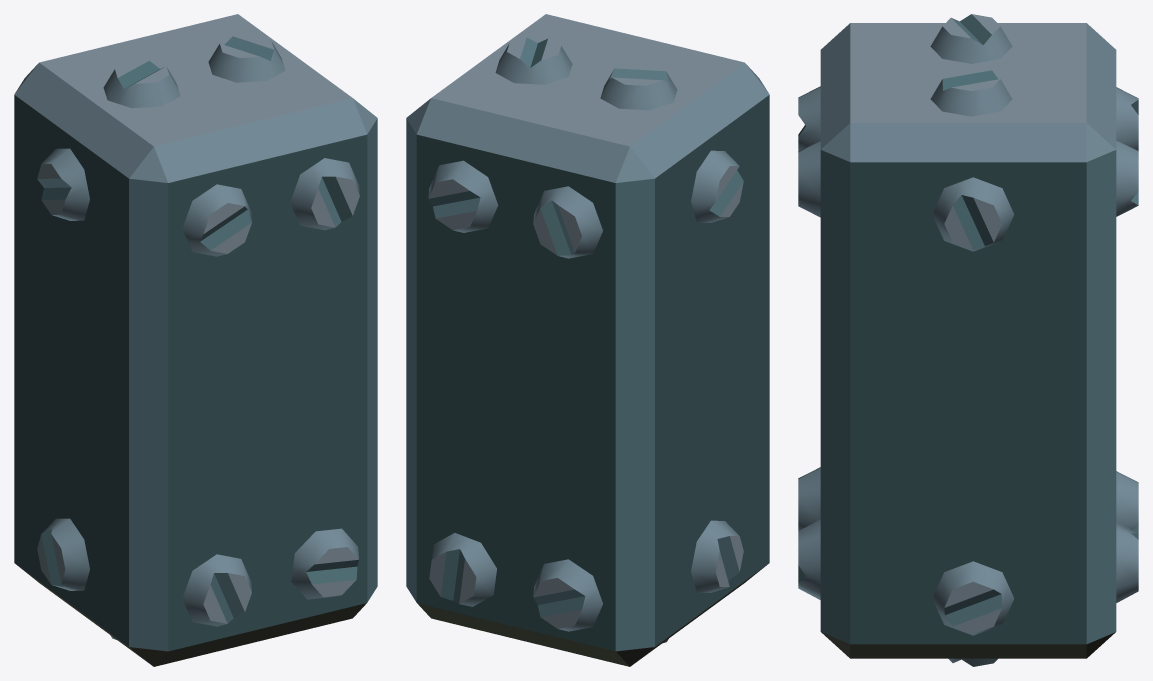
Rendered from m_kub_metal_vrick.FBX.
3 renders of one model, left to right at view 1: azimuth 30°, elevation 25°; view 2: azimuth 150°, elevation 25°; view 3: azimuth 270°, elevation 25°, orthographic. The views are drawn at different scales.
Visible parts, largest first — view 1: m_kub_metal_vrick; view 2: m_kub_metal_vrick; view 3: m_kub_metal_vrick.
Part boxes in pixels (bbox=[...]): m_kub_metal_vrick: bbox=[14, 14, 377, 666]; m_kub_metal_vrick: bbox=[406, 14, 769, 666]; m_kub_metal_vrick: bbox=[798, 14, 1138, 666].
Size of the model in its own units: 1.15 by 2.15 by 1.15.
